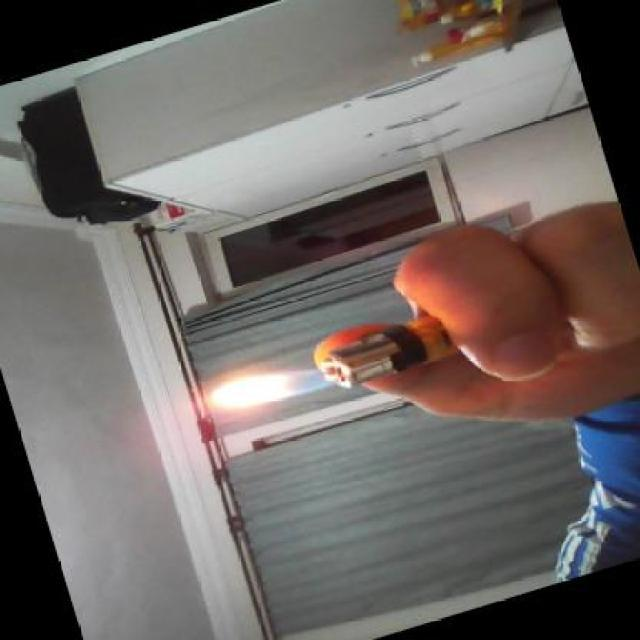Fire: (216, 369, 327, 409)
